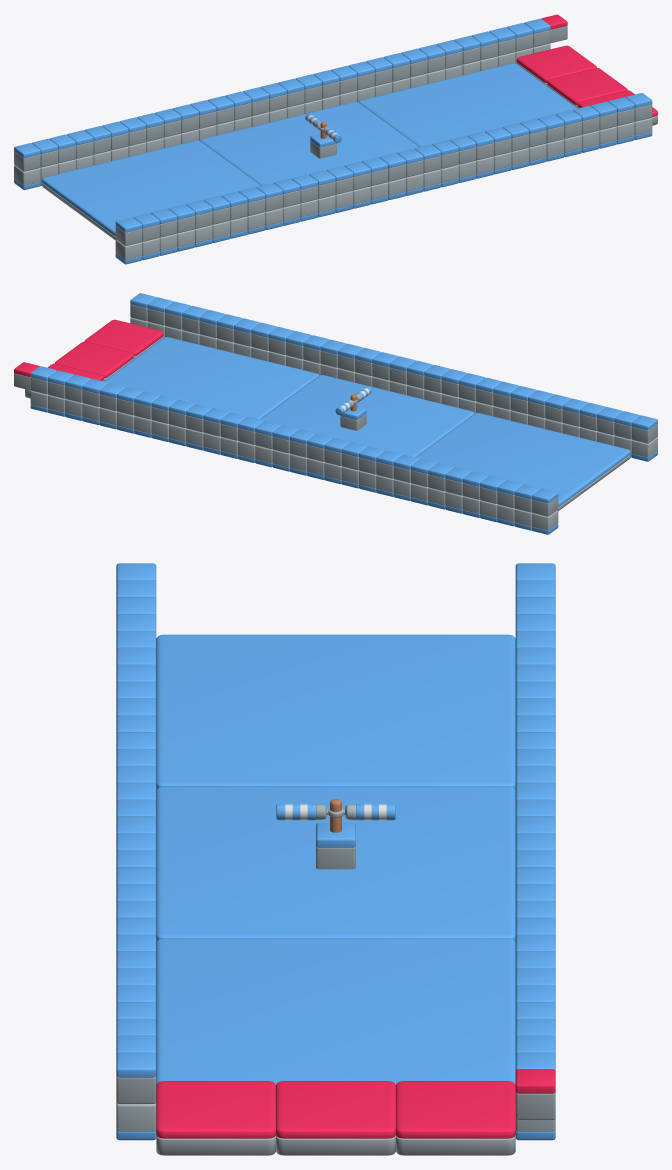
Rendered from level.gltf.
3 renders of one model, top to bottom at view 1: azimuth 30°, elevation 25°; view 2: azimuth 150°, elevation 25°; view 3: azimuth 270°, elevation 25°, orthographic. The views are drawn at different scales.
Parts seen in each view (by area): view 1: tileHigh_teamBlue, tileHigh_teamBlue.003, tileLarge_teamBlue.001, tileHigh_teamBlue.002, tileLarge_teamBlue.002, tileLarge_teamBlue, tileHigh_teamBlue.004, tileMedium_teamRed, tileMedium_teamRed.001, tileHigh_teamBlue.001, tileHigh_teamRed, tileMedium_teamRed.002 (+1 smaller); view 2: tileHigh_teamBlue.003, tileHigh_teamBlue, tileLarge_teamBlue.001, tileHigh_teamBlue.004, tileLarge_teamBlue.002, tileLarge_teamBlue, tileHigh_teamBlue.002, tileMedium_teamRed.002, tileMedium_teamRed.001, tileHigh_teamBlue.001, tileHigh_teamRed, tileMedium_teamRed (+1 smaller); view 3: tileLarge_teamBlue.001, tileLarge_teamBlue.002, tileLarge_teamBlue, tileHigh_teamBlue, tileHigh_teamBlue.003, tileMedium_teamRed, tileMedium_teamRed.002, tileMedium_teamRed.001, swiperDouble_teamBlue, tileHigh_teamRed, tileHigh_teamBlue.001, tileHigh_teamBlue.002 (+1 smaller).
Boxes of the visible parts, <box> form: tileHigh_teamBlue: <box>115,93,652,245</box>; tileHigh_teamBlue.003: <box>14,18,550,171</box>; tileLarge_teamBlue.001: <box>42,140,260,240</box>; tileHigh_teamBlue.002: <box>115,118,652,264</box>; tileLarge_teamBlue.002: <box>358,63,577,146</box>; tileLarge_teamBlue: <box>200,101,418,185</box>; tileHigh_teamBlue.004: <box>14,43,550,190</box>; tileMedium_teamRed: <box>516,45,596,85</box>; tileMedium_teamRed.001: <box>547,68,627,107</box>; tileHigh_teamBlue.001: <box>310,134,336,158</box>; tileHigh_teamRed: <box>541,14,567,43</box>; tileMedium_teamRed.002: <box>577,90,657,125</box>; tileHigh_teamBlue.003: <box>30,366,558,516</box>; tileHigh_teamBlue: <box>130,293,657,443</box>; tileLarge_teamBlue.001: <box>415,413,630,511</box>; tileHigh_teamBlue.004: <box>30,390,558,534</box>; tileLarge_teamBlue.002: <box>104,337,319,419</box>; tileLarge_teamBlue: <box>259,375,474,457</box>; tileHigh_teamBlue.002: <box>130,317,657,461</box>; tileMedium_teamRed.002: <box>84,319,163,358</box>; tileMedium_teamRed.001: <box>55,341,133,380</box>; tileHigh_teamBlue.001: <box>340,406,366,430</box>; tileHigh_teamRed: <box>14,362,39,390</box>; tileMedium_teamRed: <box>25,363,103,398</box>; tileLarge_teamBlue.001: <box>156,634,515,789</box>; tileLarge_teamBlue.002: <box>156,938,515,1084</box>; tileLarge_teamBlue: <box>156,786,515,941</box>; tileHigh_teamBlue: <box>116,563,156,1103</box>; tileHigh_teamBlue.003: <box>515,563,555,1070</box>; tileMedium_teamRed: <box>396,1081,515,1155</box>; tileMedium_teamRed.002: <box>156,1081,275,1155</box>; tileMedium_teamRed.001: <box>276,1081,395,1155</box>; swiperDouble_teamBlue: <box>276,799,395,832</box>; tileHigh_teamRed: <box>515,1069,555,1120</box>; tileHigh_teamBlue.001: <box>316,823,355,869</box>; tileHigh_teamBlue.002: <box>116,1102,156,1140</box>.
Size of the model in its own units: 61.92 by 4.32 by 22.
